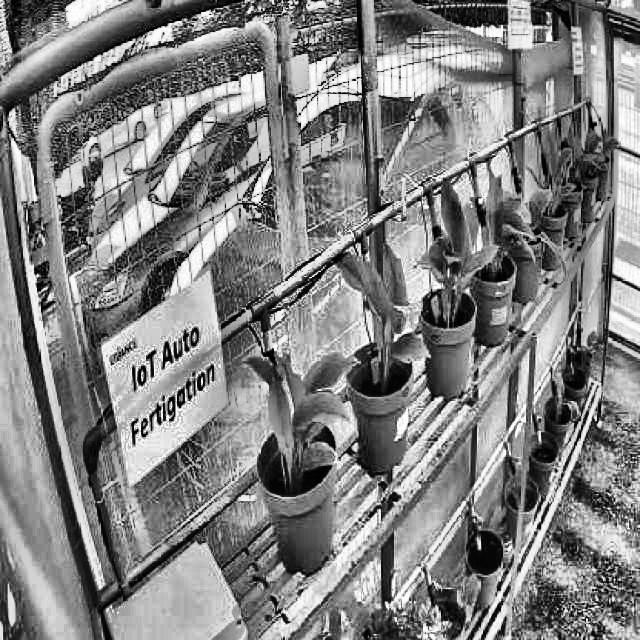plants: (245, 352, 358, 474), (329, 244, 431, 361), (416, 183, 492, 300), (482, 164, 532, 272), (542, 126, 575, 214)
